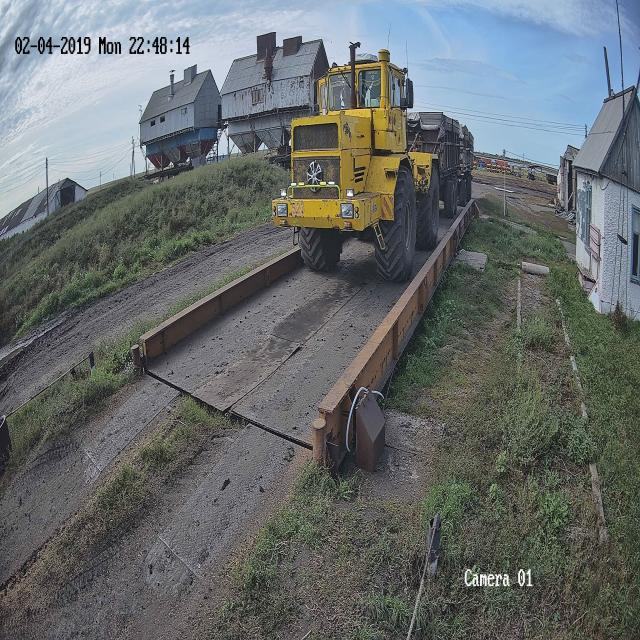tractor: (264, 61, 436, 273)
trailer: (407, 112, 473, 217), (458, 124, 474, 206), (460, 125, 474, 171)
